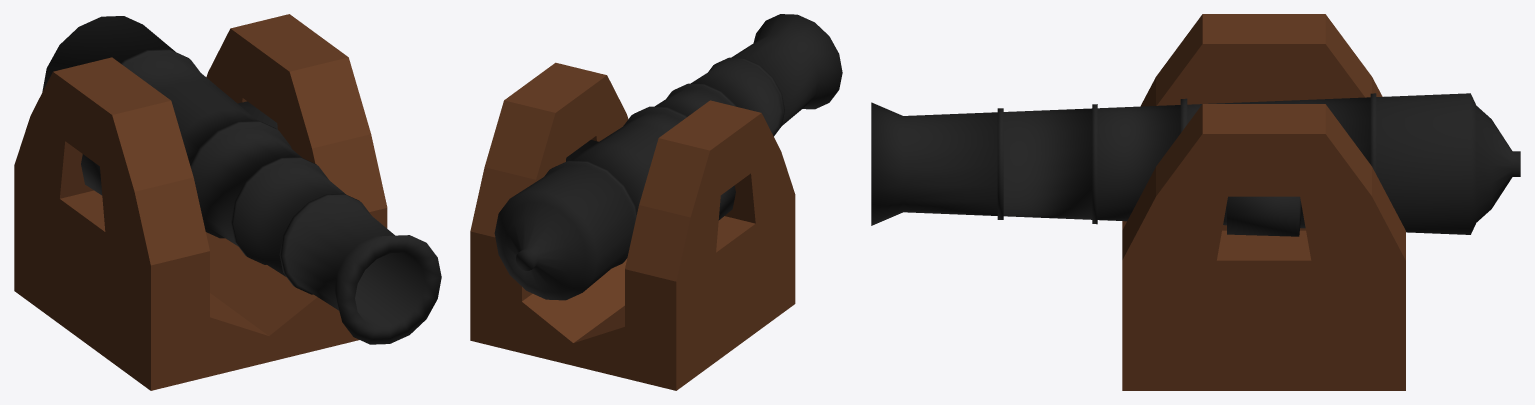
The model's file is Simple_Canon.fbx.
3 views of the same model, side by side, from view 1: azimuth 30°, elevation 25°; view 2: azimuth 150°, elevation 25°; view 3: azimuth 270°, elevation 25° (orthographic). The views are drawn at different scales.
Visible parts, largest first — view 1: Cube, Cylinder; view 2: Cube, Cylinder; view 3: Cube, Cylinder.
Boxes of the visible parts, bbox=[...] form: Cube: bbox=[14, 14, 387, 390]; Cylinder: bbox=[42, 16, 441, 344]; Cube: bbox=[470, 62, 795, 390]; Cylinder: bbox=[494, 14, 842, 300]; Cube: bbox=[1122, 14, 1405, 390]; Cylinder: bbox=[871, 93, 1520, 236].
Bounding box in the file's own units: 100 × 100 × 229.
